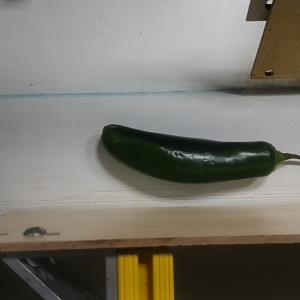Cut Point: (255, 139, 290, 176)
